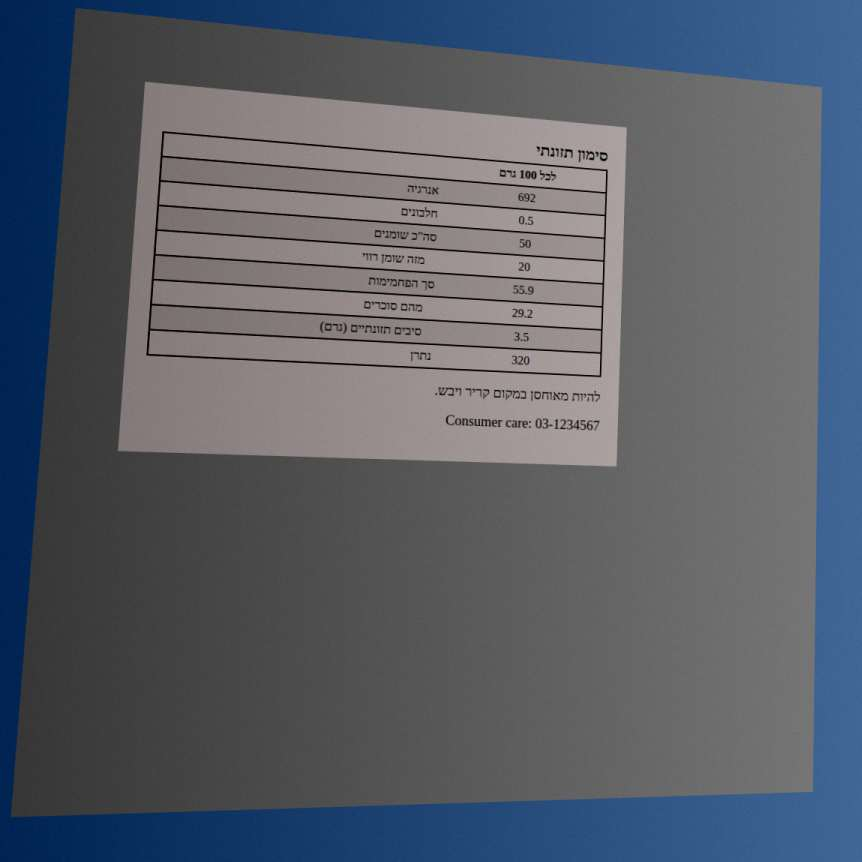carbs: (511, 282, 536, 299)
energy: (516, 189, 538, 206)
fat: (517, 235, 533, 252)
protein: (517, 212, 535, 229)
